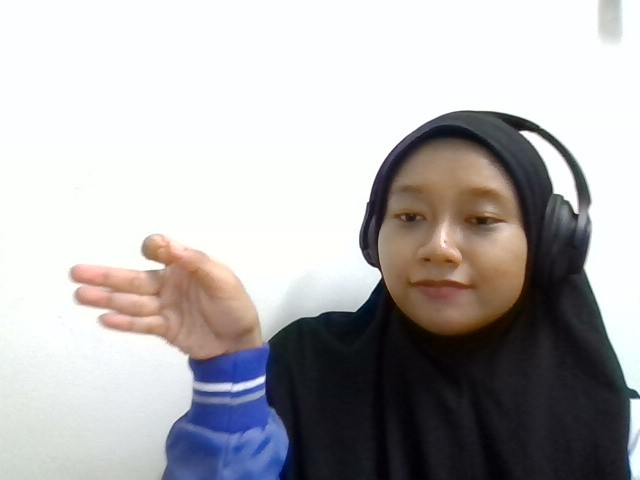Angsa: (69, 232, 262, 359)
